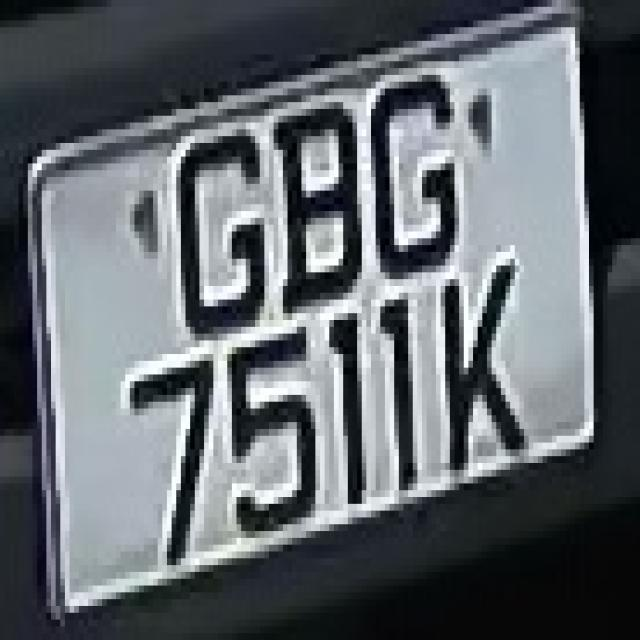1: (362, 272, 431, 531), (325, 293, 371, 538)
5: (209, 327, 320, 531)
7: (111, 320, 218, 565)
B: (269, 82, 376, 327)
G: (153, 123, 269, 347), (362, 61, 473, 272)
K: (431, 245, 529, 484)
